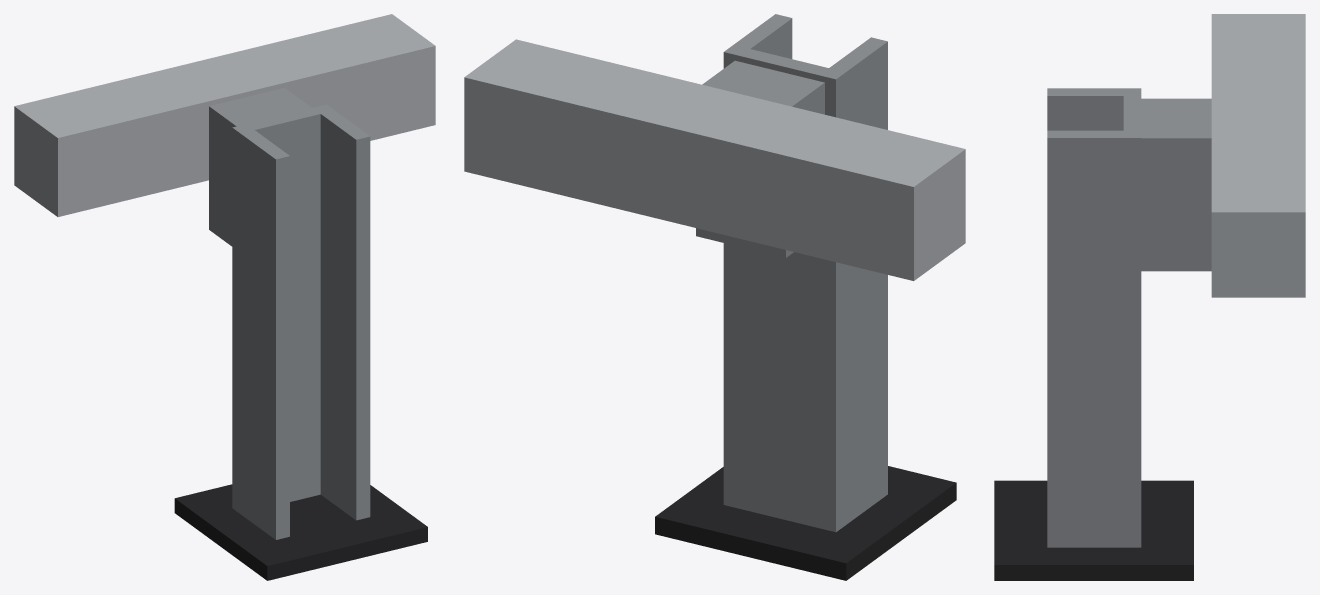
The model's file is guardrail_box_beam_inv.obj.
The picture shows the model from 3 angles, left to right: view 1: azimuth 30°, elevation 25°; view 2: azimuth 150°, elevation 25°; view 3: azimuth 270°, elevation 25°; orthographic projection. The views are drawn at different scales.
Visible parts, largest first — view 1: guardrail_box_beam_inv; view 2: guardrail_box_beam_inv; view 3: guardrail_box_beam_inv.
Boxes of the visible parts, x1=… form: guardrail_box_beam_inv: x1=14, y1=14, x2=435, y2=580; guardrail_box_beam_inv: x1=464, y1=14, x2=965, y2=580; guardrail_box_beam_inv: x1=994, y1=14, x2=1305, y2=580.
Bounding box in the file's own units: 1 × 1 × 0.6625.
